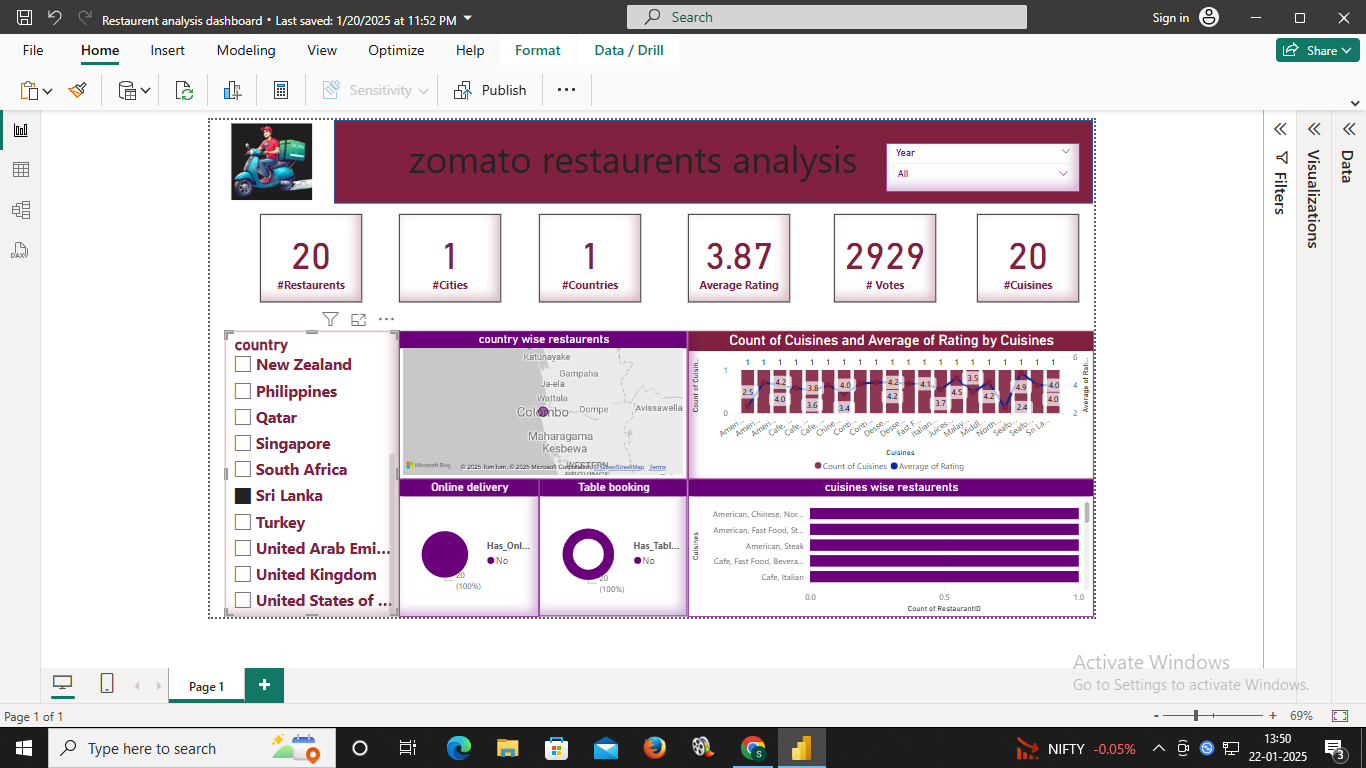

The dashboard page shown, as its layout file describes it:
{"tool":"powerbi","page":{"name":"Page 1","canvas":[1280,720],"ordinal":0},"visuals":[{"type":"shape","box":[179.7,0,1100.3,120.9],"z":0},{"type":"image","box":[0,0,179.7,120.9],"z":1000},{"type":"textbox","box":[238.5,15.1,747.5,68.9],"z":2000},{"type":"card","fields":{"Values":["Count(restaurents.RestaurantID)"]},"box":[72.2,136.1,147.8,127.7],"z":3000},{"type":"card","fields":{"Values":["Count(restaurents.CountryCode)"]},"box":[477.1,136.1,147.8,127.7],"z":4000},{"type":"card","fields":{"Values":["Count(restaurents.City)"]},"box":[273.8,136.1,147.8,127.7],"z":5000},{"type":"card","fields":{"Values":["Count(restaurents.Cuisines)"]},"box":[1112,136.1,147.8,127.7],"z":6000},{"type":"card","fields":{"Values":["Sum(restaurents.Votes)"]},"box":[903.7,136.1,147.8,127.7],"z":7000},{"type":"card","fields":{"Values":["Avg(restaurents.Rating)"]},"box":[692.1,136.1,147.8,127.7],"z":8000},{"type":"slicer","fields":{"Values":["countries.country name"]},"box":[21.8,305.7,252,414.9],"z":9000},{"type":"lineStackedColumnComboChart","fields":{"Category":["restaurents.Cuisines"],"Y":["CountNonNull(restaurents.Cuisines)"],"Y2":["Avg(restaurents.Rating)"]},"box":[692.1,305.7,587.9,215],"z":10000},{"type":"map","title":"country wise restaurents","fields":{"Category":["restaurents.City"],"Size":["CountNonNull(restaurents.RestaurantID)"]},"box":[273.8,305.7,418.3,215],"z":10001},{"type":"clusteredBarChart","title":"cuisines wise restaurents","fields":{"Category":["restaurents.Cuisines"],"Y":["CountNonNull(restaurents.RestaurantID)"]},"box":[692.1,520.7,587.9,199.9],"z":10002},{"type":"pieChart","title":"Online delivery","fields":{"Category":["restaurents.Has_Online_delivery"],"Y":["CountNonNull(restaurents.RestaurantID)"]},"box":[273.8,520.7,203.3,199.9],"z":10003},{"type":"donutChart","title":"Table booking","fields":{"Category":["restaurents.Has_Table_booking"],"Y":["CountNonNull(restaurents.RestaurantID)"]},"box":[477,521,215,199],"z":10004},{"type":"slicer","fields":{"Values":["restaurents.Datekey_Opening.Variation.Date Hierarchy.Year"]},"box":[979.2,33.1,280.8,70.6],"z":10005}]}

Visuals, with their boxes on the page's 1280x720 design canvas (x1, y1, x2, y2). These are canvas units, not pixel positions in the 1366x768 screenshot, which may show the page scaled, cropped or inside an application window:
shape: (180, 0, 1280, 121)
image: (0, 0, 180, 121)
textbox: (238, 15, 986, 84)
card - Count(restaurents.RestaurantID): (72, 136, 220, 264)
card - Count(restaurents.CountryCode): (477, 136, 625, 264)
card - Count(restaurents.City): (274, 136, 422, 264)
card - Count(restaurents.Cuisines): (1112, 136, 1260, 264)
card - Sum(restaurents.Votes): (904, 136, 1052, 264)
card - Avg(restaurents.Rating): (692, 136, 840, 264)
slicer - countries.country name: (22, 306, 274, 721)
lineStackedColumnComboChart - restaurents.Cuisines x CountNonNull(restaurents.Cuisines): (692, 306, 1280, 521)
"country wise restaurents" map: (274, 306, 692, 521)
"cuisines wise restaurents" clusteredBarChart: (692, 521, 1280, 721)
"Online delivery" pieChart: (274, 521, 477, 721)
"Table booking" donutChart: (477, 521, 692, 720)
slicer - restaurents.Datekey_Opening.Variation.Date Hierarchy.Year: (979, 33, 1260, 104)
